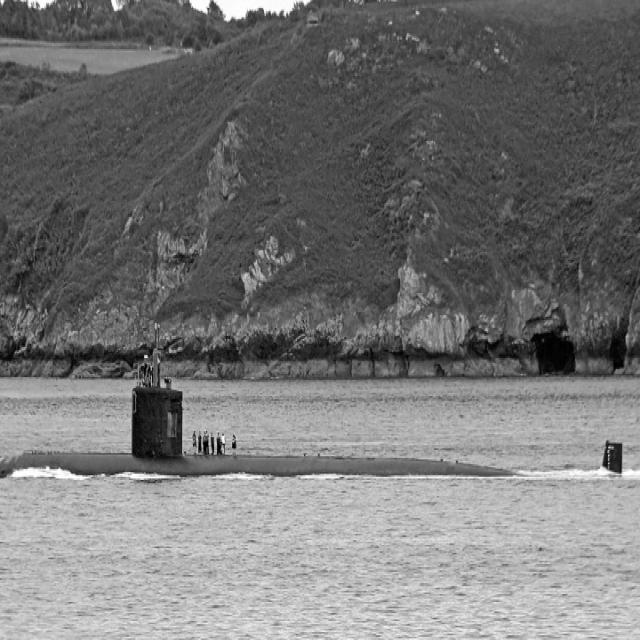submarine: (1, 321, 623, 479)
